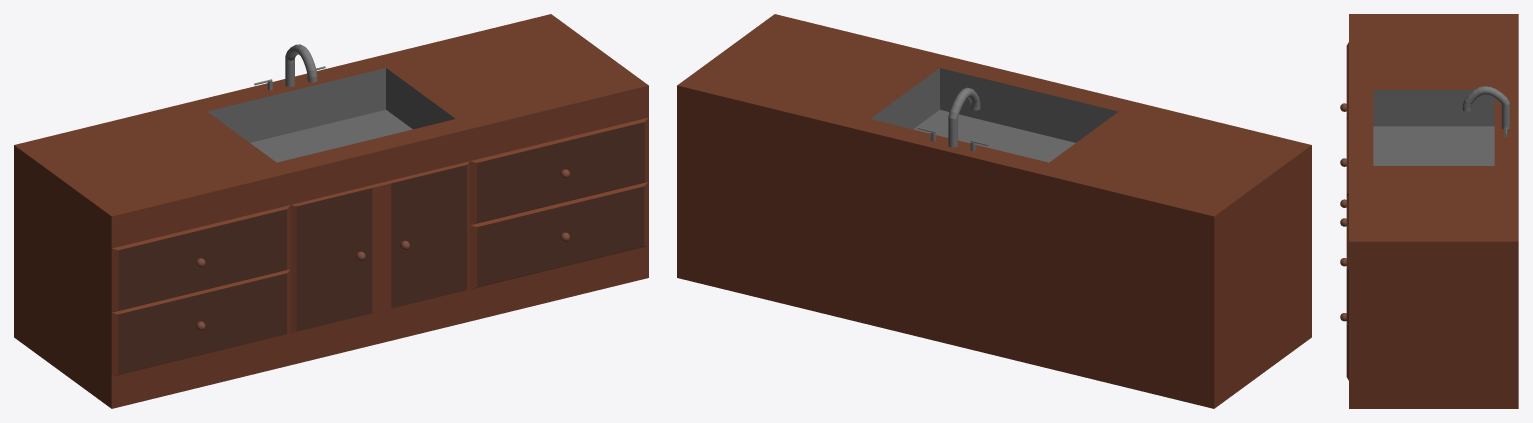
Rendered from kitchensink.fbx.
3 renders of one model, left to right at view 1: azimuth 30°, elevation 25°; view 2: azimuth 150°, elevation 25°; view 3: azimuth 270°, elevation 25°, orthographic. The views are drawn at different scales.
Visible parts, largest first — view 1: Cube, Cylinder; view 2: Cube, Cylinder; view 3: Cube, Cylinder.
Part boxes in pixels (bbox=[...]): Cube: bbox=[14, 14, 648, 408]; Cylinder: bbox=[285, 44, 317, 86]; Cube: bbox=[677, 14, 1311, 408]; Cylinder: bbox=[948, 87, 980, 147]; Cube: bbox=[1346, 14, 1518, 408]; Cylinder: bbox=[1462, 86, 1509, 129].
Bounding box in the file's own units: 1259 × 538 × 417.
